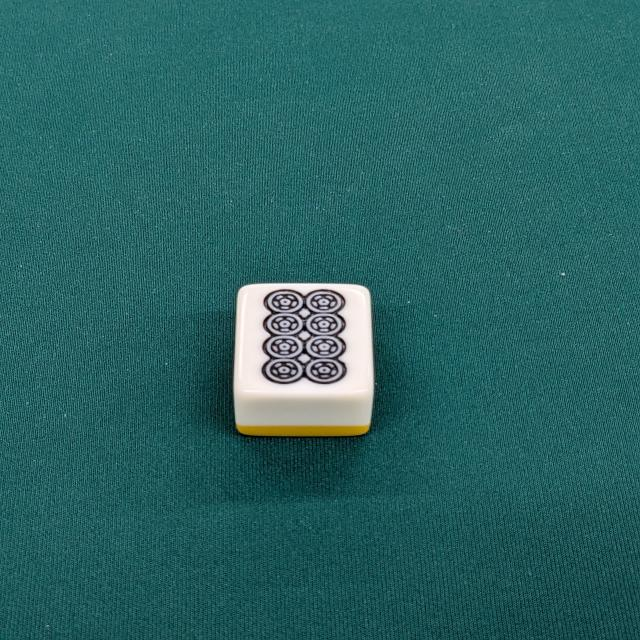8p: (232, 283, 376, 440)
